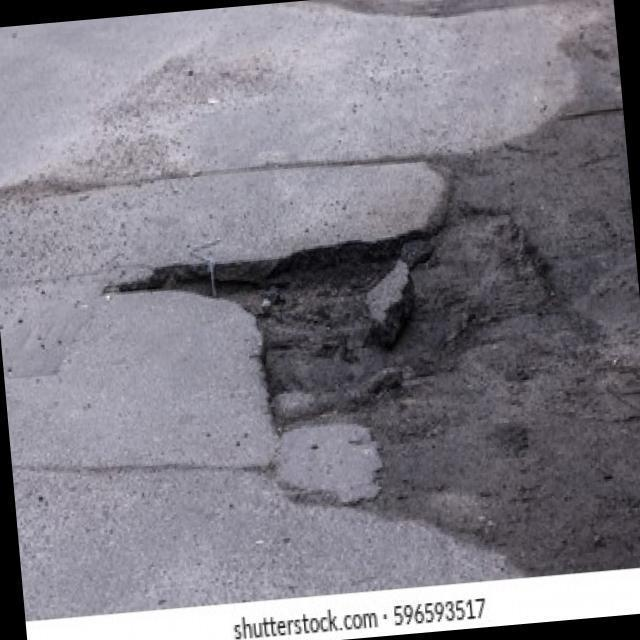pothole: (114, 200, 557, 443)
